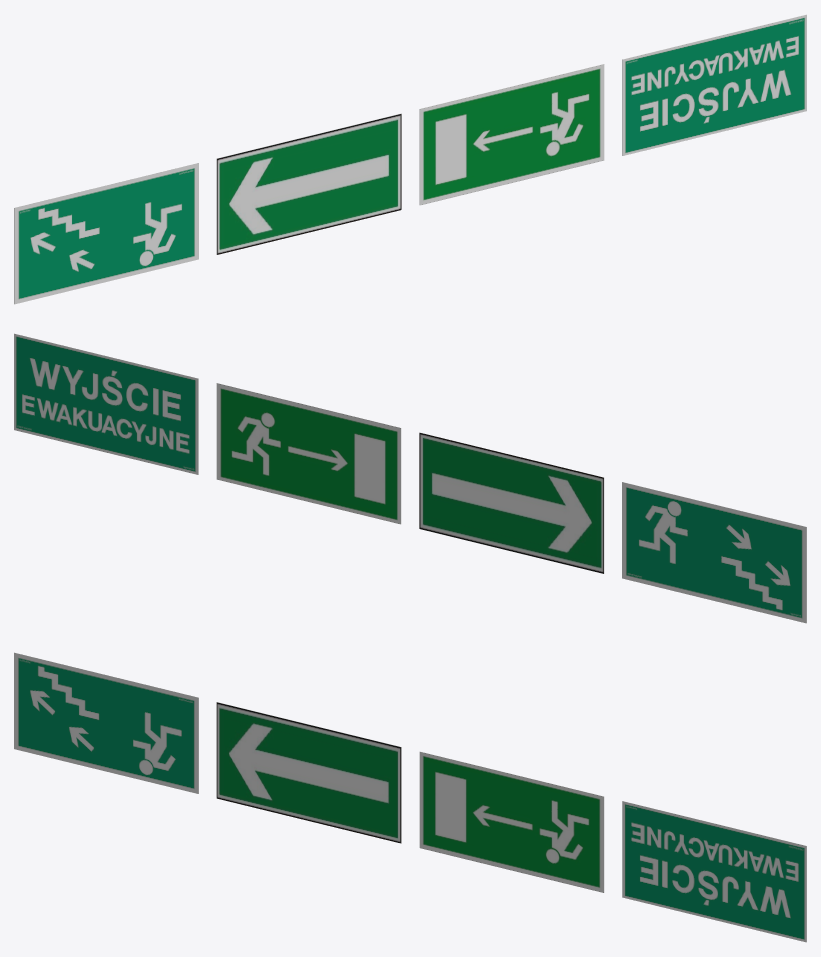
File: Znaki_ew.fbx
3 renders of one model, top to bottom at view 1: azimuth 30°, elevation 25°; view 2: azimuth 150°, elevation 25°; view 3: azimuth 330°, elevation 25°, orthographic.
Parts seen in each view (by area): view 1: 1i5, 1i5.002, 1i5.001, 1i5.003; view 2: 1i5, 1i5.002, 1i5.001, 1i5.003; view 3: 1i5, 1i5.002, 1i5.001, 1i5.003.
Part boxes in pixels (x1,y1,x2,y2): 1i5: (216,113,401,254); 1i5.002: (419,64,604,205); 1i5.001: (14,163,198,304); 1i5.003: (622,14,806,155); 1i5: (419,432,604,573); 1i5.002: (216,383,401,524); 1i5.001: (622,482,806,623); 1i5.003: (14,333,198,474); 1i5: (216,702,401,843); 1i5.002: (419,751,604,892); 1i5.001: (14,652,198,793); 1i5.003: (622,801,806,942).
Size of the model in its own units: 860 by 100 by 0.5.
